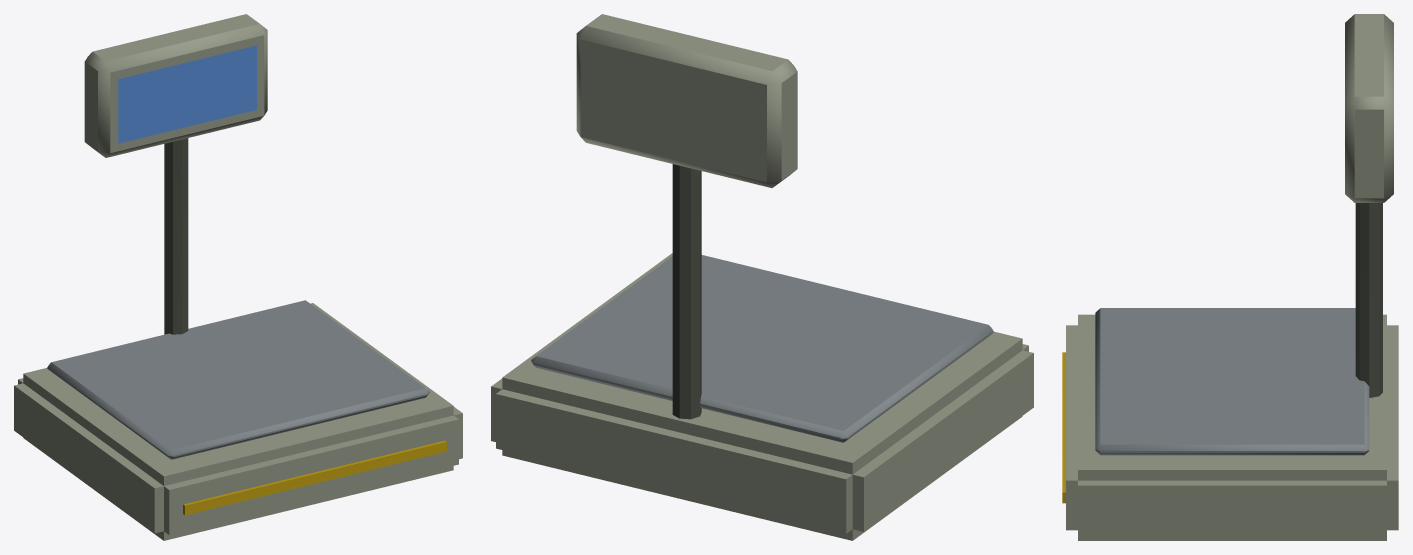
The model's file is mkt-scale-produce.glb.
3 views of the same model, side by side, from view 1: azimuth 30°, elevation 25°; view 2: azimuth 150°, elevation 25°; view 3: azimuth 270°, elevation 25° (orthographic). The views are drawn at different scales.
Parts seen in each view (by area): view 1: body__plastic, platter__steel, screen__screen, trim__lacquer; view 2: body__plastic, platter__steel; view 3: body__plastic, platter__steel, trim__lacquer.
Part boxes in pixels (<box>): body__plastic: <box>14,14,462,540</box>; platter__steel: <box>47,300,429,459</box>; screen__screen: <box>118,45,256,143</box>; trim__lacquer: <box>183,440,446,515</box>; body__plastic: <box>491,14,1033,540</box>; platter__steel: <box>531,255,993,442</box>; body__plastic: <box>1066,14,1398,540</box>; platter__steel: <box>1095,308,1369,455</box>; trim__lacquer: <box>1062,352,1065,503</box>.
Bounding box in the file's own units: 0.4 × 0.46 × 0.344.
